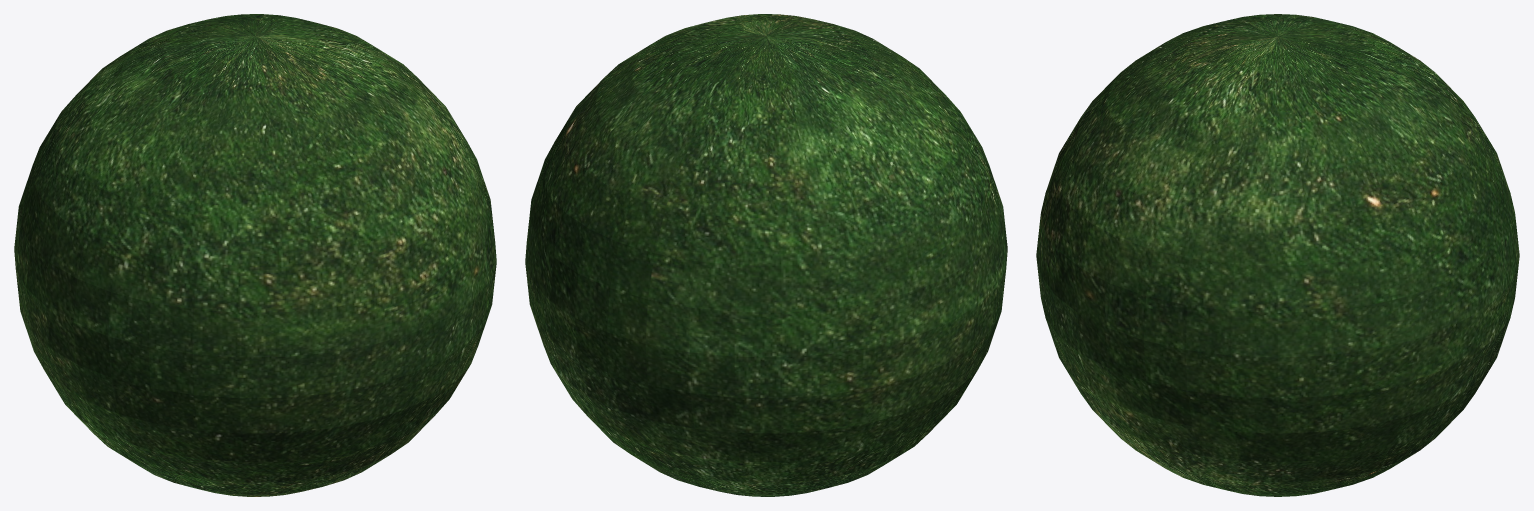
File: terepot.fbx
The picture shows the model from 3 angles, left to right: view 1: azimuth 30°, elevation 25°; view 2: azimuth 150°, elevation 25°; view 3: azimuth 270°, elevation 25°; orthographic projection.
Parts seen in each view (by area): view 1: terepot; view 2: terepot; view 3: terepot.
Part boxes in pixels (<box>): terepot: <box>14,14,496,496</box>; terepot: <box>525,14,1007,496</box>; terepot: <box>1036,14,1519,496</box>.
Bounding box in the file's own units: 45.98 × 45.98 × 45.98.
1 material, 1 textured.
